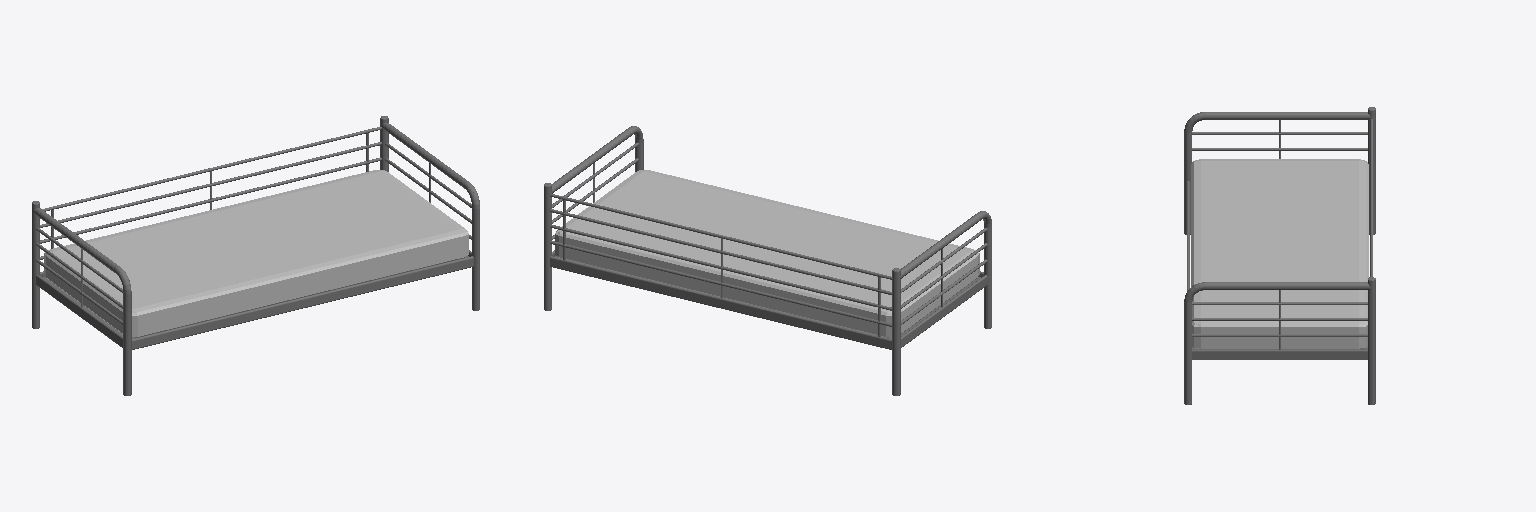
The model's file is day_bed_frame.obj.
3 renders of one model, left to right at view 1: azimuth 30°, elevation 25°; view 2: azimuth 150°, elevation 25°; view 3: azimuth 270°, elevation 25°, orthographic.
Parts seen in each view (by area): view 1: mattress.001_Cube.004, Cylinder.001, Cylinder; view 2: mattress.001_Cube.004, Cylinder.001, Cylinder; view 3: mattress.001_Cube.004, Cylinder, Cylinder.001.
Part boxes in pixels (bbox=[...]): mattress.001_Cube.004: bbox=[44, 170, 468, 337]; Cylinder.001: bbox=[36, 127, 473, 349]; Cylinder: bbox=[32, 116, 479, 395]; mattress.001_Cube.004: bbox=[555, 170, 979, 337]; Cylinder.001: bbox=[550, 143, 987, 349]; Cylinder: bbox=[544, 126, 991, 395]; mattress.001_Cube.004: bbox=[1191, 159, 1368, 348]; Cylinder: bbox=[1184, 107, 1375, 404]; Cylinder.001: bbox=[1187, 117, 1372, 359].
Bounding box in the file's own units: 208 × 70 × 96.99.